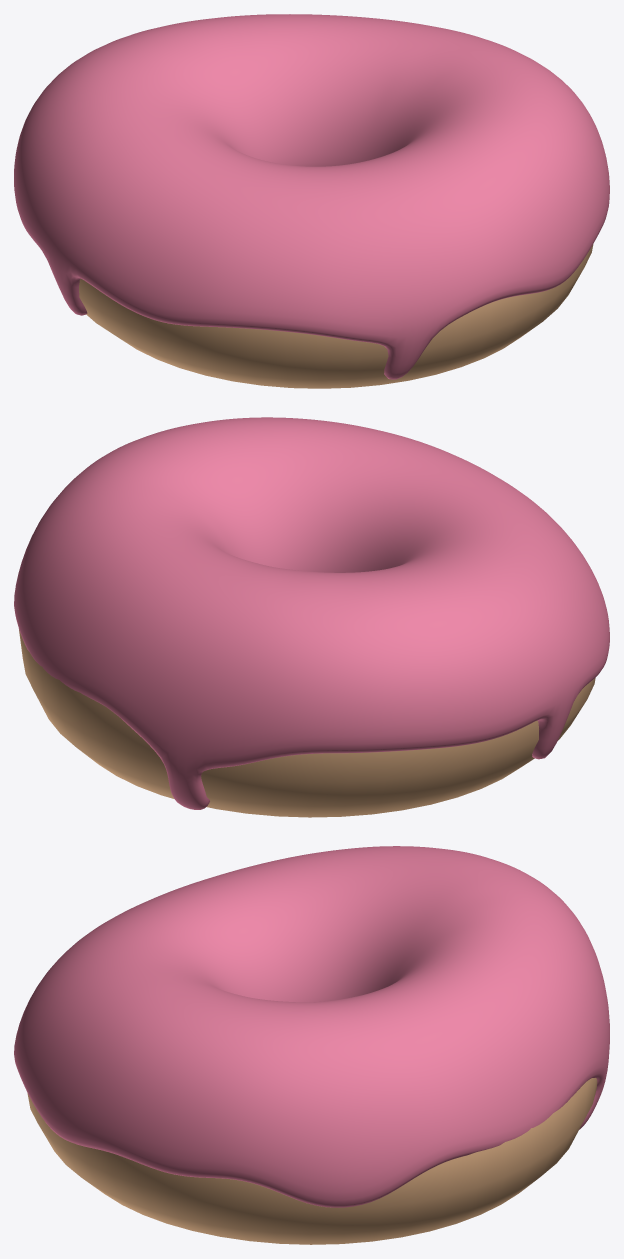
Rendered from donut.glb.
3 views of the same model, one above another, from view 1: azimuth 30°, elevation 25°; view 2: azimuth 150°, elevation 25°; view 3: azimuth 270°, elevation 25° (orthographic). The views are drawn at different scales.
Visible parts, largest first — view 1: icing, donut; view 2: icing, donut; view 3: icing, donut.
Part boxes in pixels (x1,y1,x2,y2): icing: (14,14,609,379); donut: (79,244,593,388); icing: (14,417,609,809); donut: (19,629,595,817); icing: (14,846,609,1207); donut: (27,1078,597,1244).
Bounding box in the file's own units: 2.43 × 0.9968 × 2.36.
